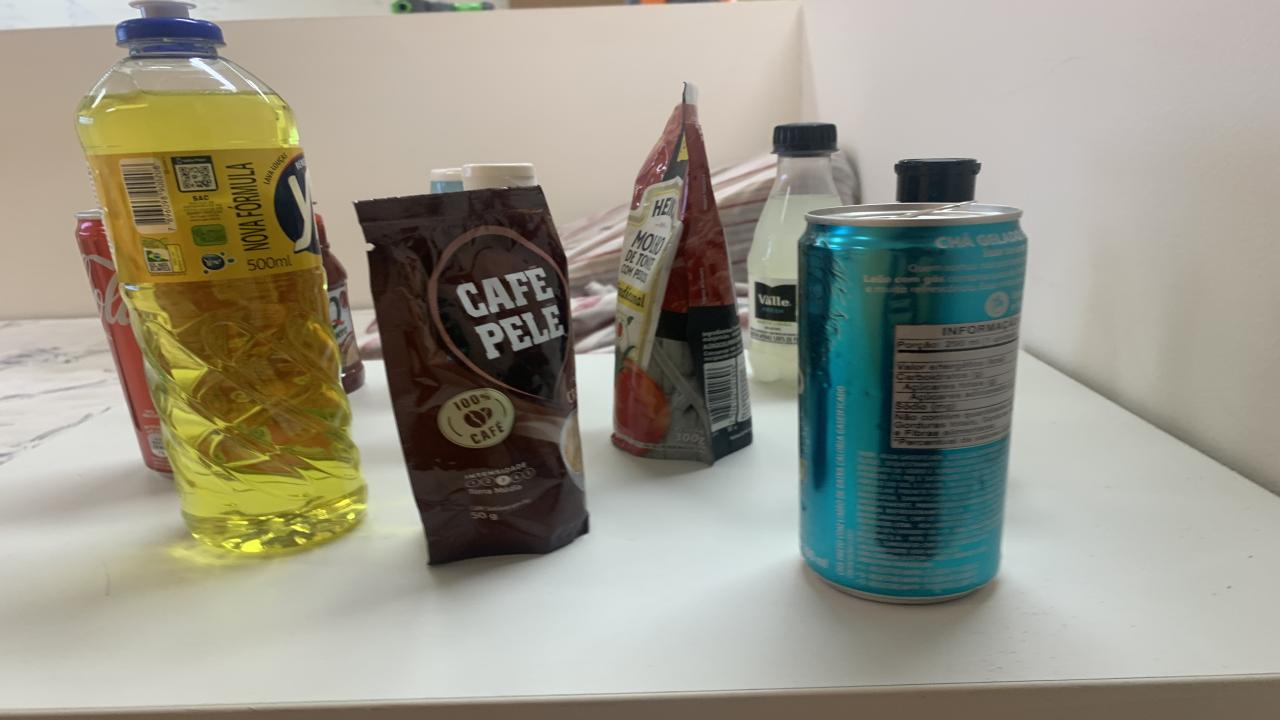Coffee-Pantry_Items: (355, 186, 588, 564)
Coke-Drinks: (75, 210, 172, 474)
Detergent-Cleanup_Items: (75, 0, 365, 553)
Soda-Drinks: (748, 124, 840, 382)
Tea-Drinks: (798, 159, 1028, 604)
Tomato_Sauce-Pantry_Items: (610, 82, 752, 463)
